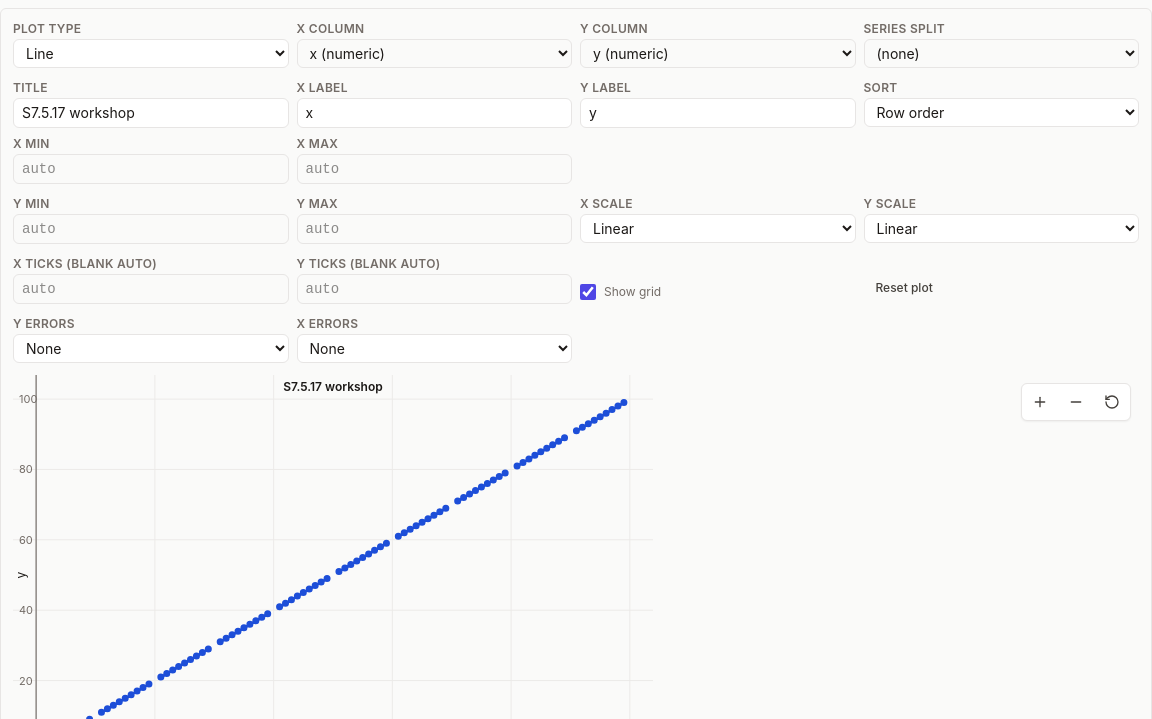
Scenario: S7.5.17 line-run geometry memoization › does not rebuild line runs for a title-only Inspector edit through PlotWorkshop
Replace the text in the field named "Plot title" with "Renamed in Inspector" at (151,113), box [13,98,288,128]
(page scrolled)
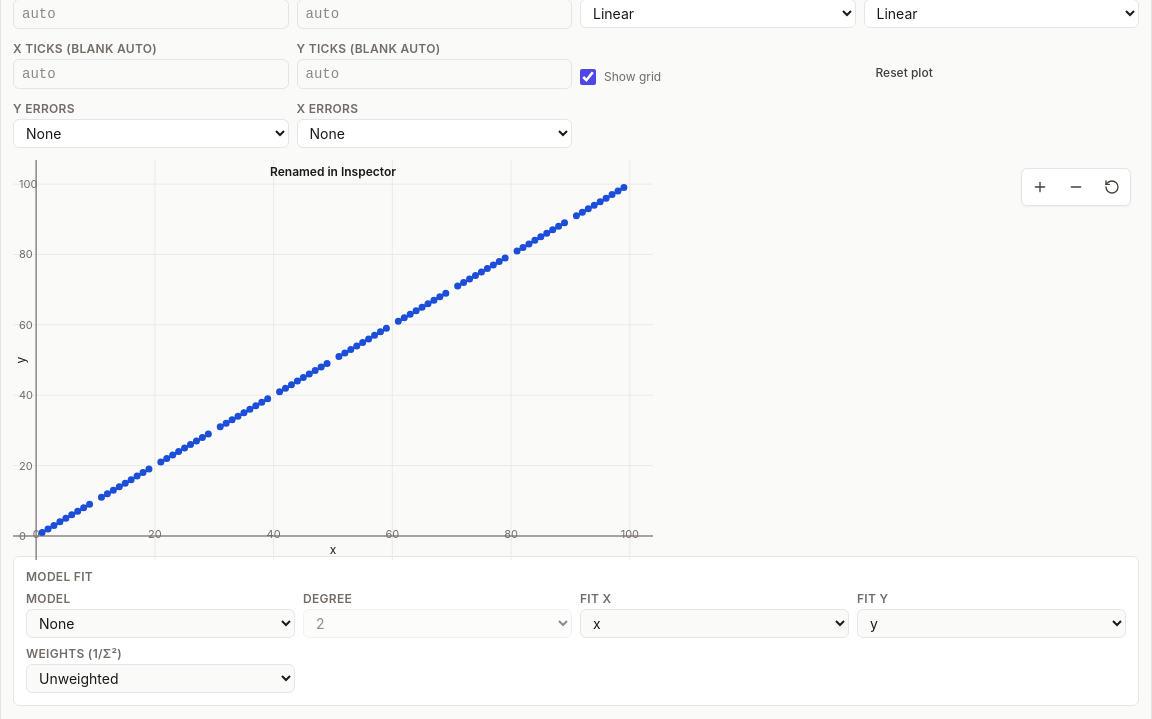
Now the picture named "Renamed in Inspector: line plot" is shown, box [13,160,653,560]
